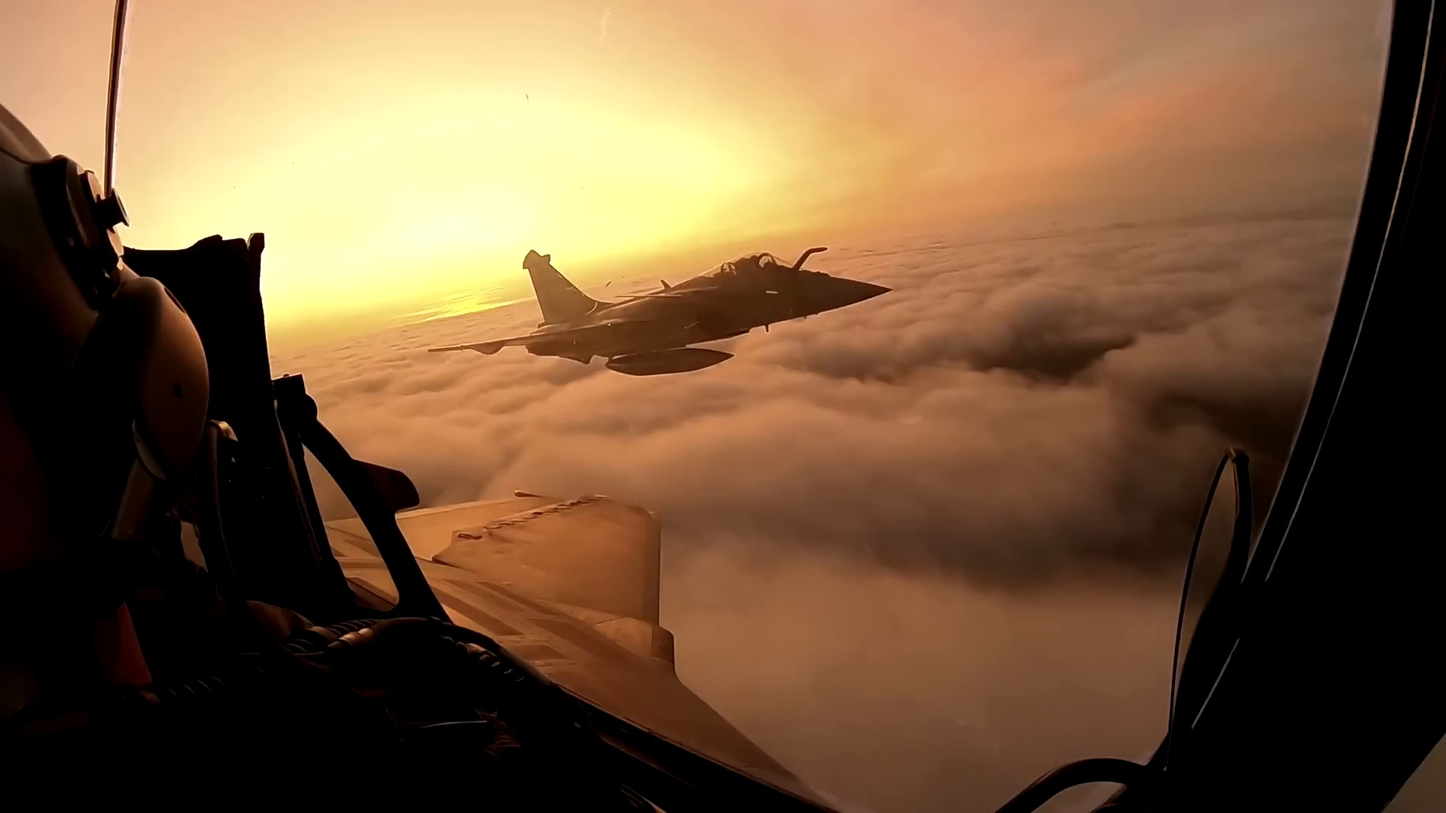Rafale: (430, 239, 895, 377)
